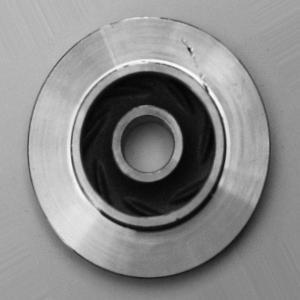crack: (181, 30, 220, 102)
scratch: (95, 9, 164, 34), (112, 54, 169, 76)
unpolished_casting: (25, 13, 273, 280)
